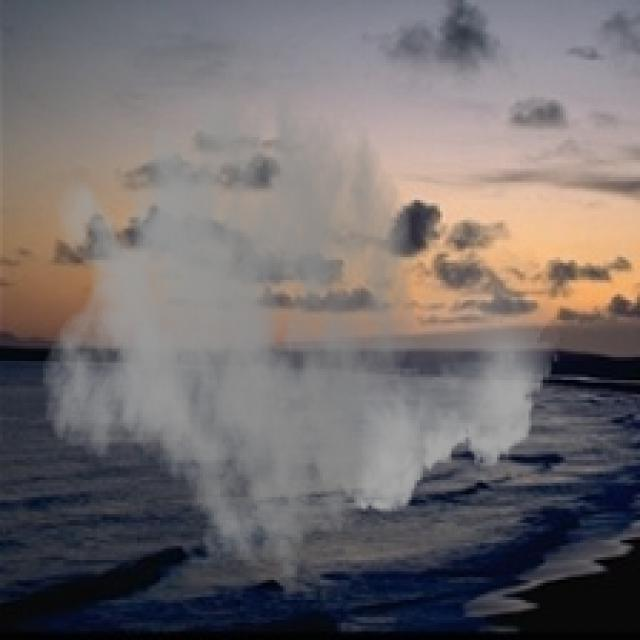smoke: (40, 28, 560, 583)
